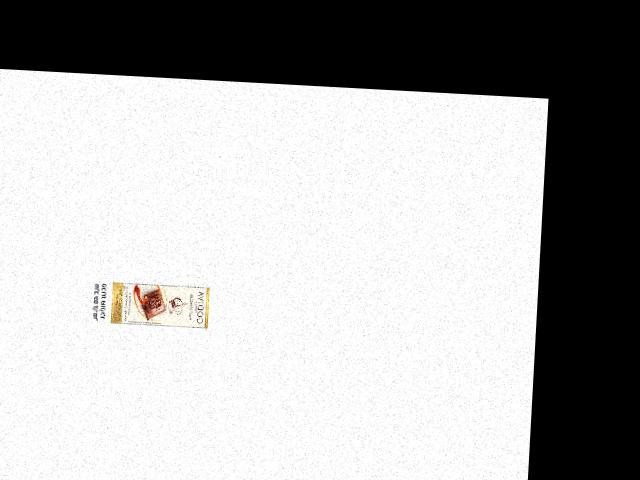chocolate: (107, 278, 212, 327)
